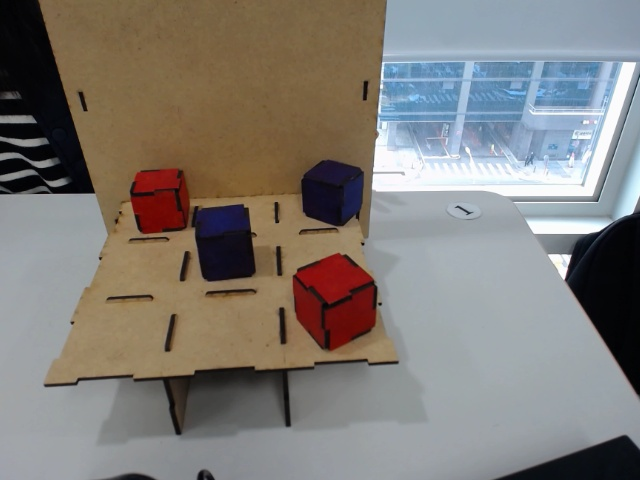blue: (192, 207, 256, 281), (301, 159, 363, 225)
red: (292, 256, 376, 350), (130, 168, 190, 231)
